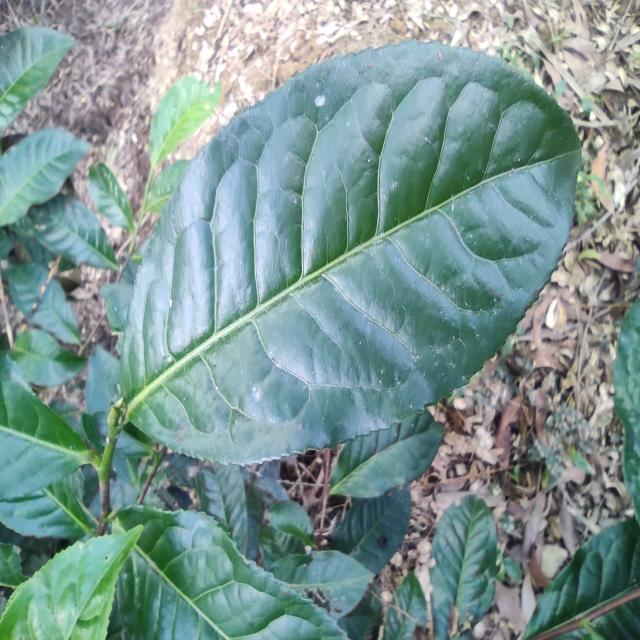Category D(7+ days, Not for Tea): (95, 31, 581, 475)
